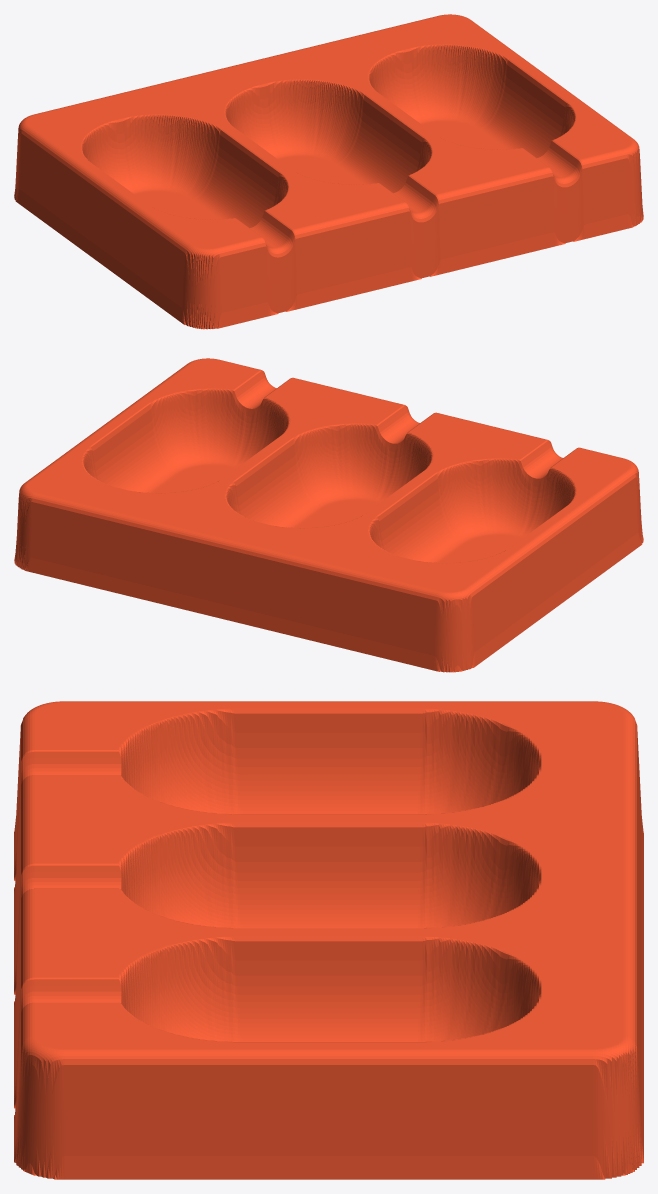
Rendered from mold.glb.
3 renders of one model, top to bottom at view 1: azimuth 30°, elevation 25°; view 2: azimuth 150°, elevation 25°; view 3: azimuth 270°, elevation 25°, orthographic. The views are drawn at different scales.
Visible parts, largest first — view 1: geometry_0; view 2: geometry_0; view 3: geometry_0.
Part boxes in pixels (bbox=[...]): geometry_0: bbox=[14, 14, 643, 329]; geometry_0: bbox=[14, 358, 643, 672]; geometry_0: bbox=[14, 701, 643, 1179].
Size of the model in its own units: 0.1566 by 0.0245 by 0.1147.
